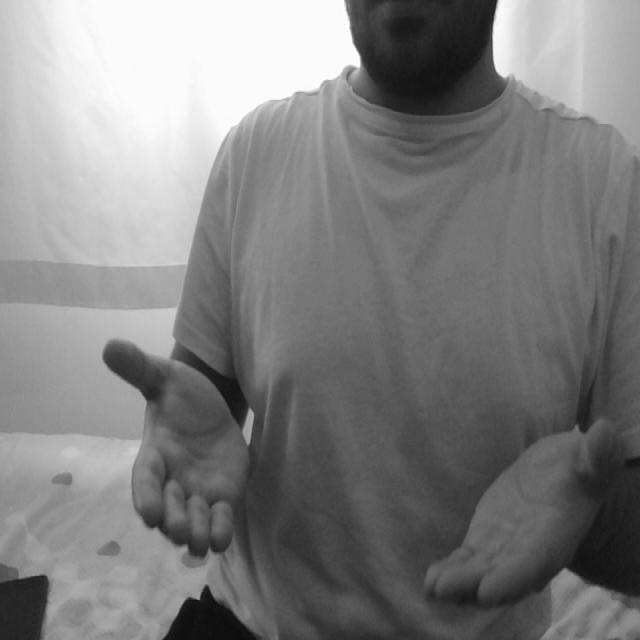Evet: (96, 331, 619, 621)
